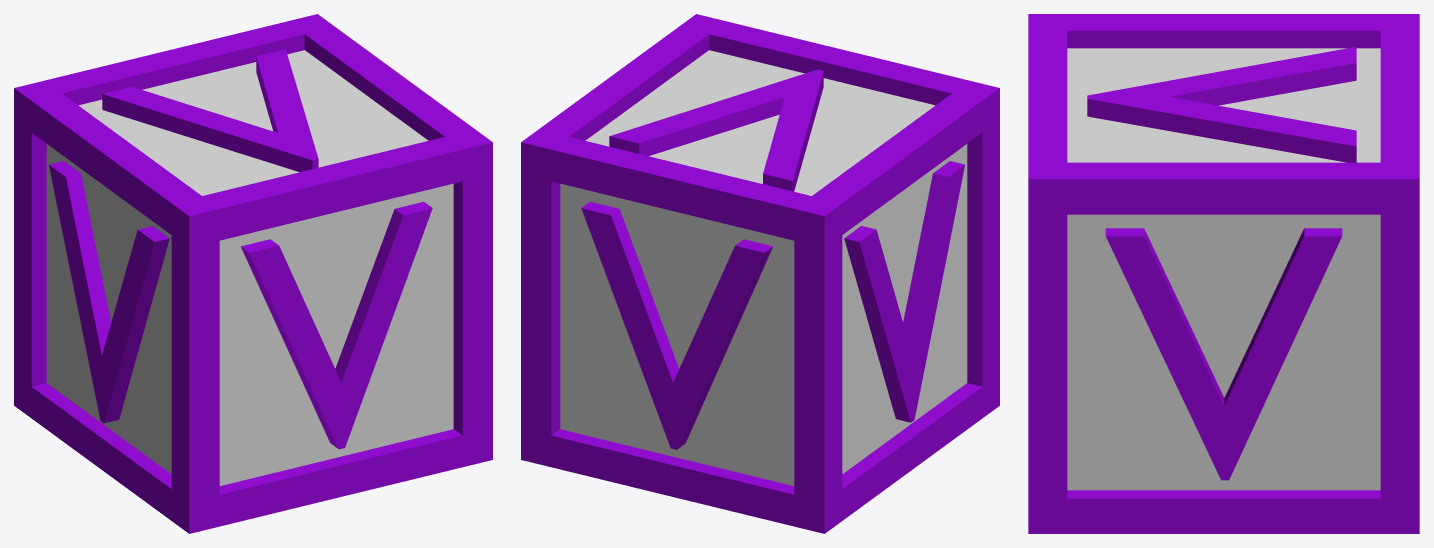
The picture shows the model from 3 angles, left to right: view 1: azimuth 30°, elevation 25°; view 2: azimuth 150°, elevation 25°; view 3: azimuth 270°, elevation 25°; orthographic projection. The views are drawn at different scales.
Parts seen in each view (by area): view 1: Cube, Text.001, Text.002, Text; view 2: Cube, Text.004, Text.002, Text; view 3: Cube, Text.003, Text.
Boxes of the visible parts, x1=… form: Cube: x1=14, y1=14, x2=492, y2=533; Text.001: x1=241, y1=201, x2=432, y2=449; Text.002: x1=49, y1=161, x2=169, y2=423; Text: x1=102, y1=49, x2=318, y2=172; Cube: x1=521, y1=14, x2=999, y2=533; Text.004: x1=581, y1=201, x2=772, y2=449; Text.002: x1=844, y1=161, x2=964, y2=422; Text: x1=609, y1=69, x2=823, y2=191; Cube: x1=1028, y1=14, x2=1419, y2=533; Text.003: x1=1105, y1=228, x2=1342, y2=480; Text: x1=1087, y1=46, x2=1356, y2=162.
Bounding box in the file's own units: 200 × 200 × 200.
